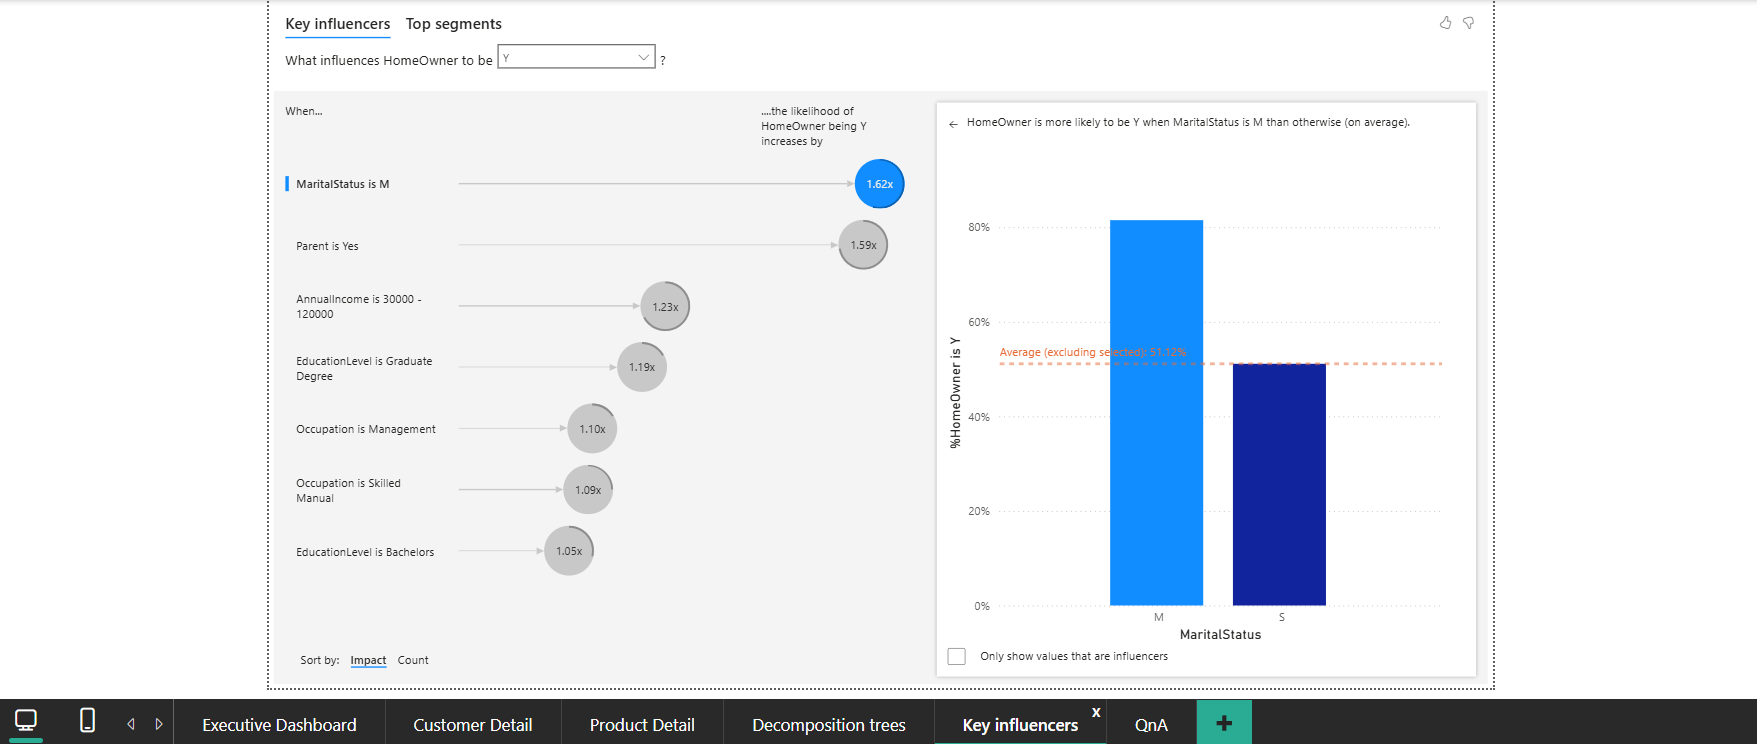

The dashboard page shown, as its layout file describes it:
{"tool":"powerbi","page":{"name":"Key influencers","canvas":[1280,720],"ordinal":4},"visuals":[{"type":"keyDriversVisual","fields":{"Target":["Customer Lookup.HomeOwner"],"ExplainBy":["Customer Lookup.AnnualIncome","Customer Lookup.EducationLevel","Customer Lookup.Parent","Customer Lookup.MaritalStatus","Customer Lookup.Occupation"]},"box":[0,0,1280.1,720.6],"z":0}]}

Visuals, with their boxes on the page's 1280x720 design canvas (x1, y1, x2, y2). These are canvas units, not pixel positions in the 1757x744 screenshot, which may show the page scaled, cropped or inside an application window:
keyDriversVisual - Customer Lookup.HomeOwner x Customer Lookup.AnnualIncome: 0 0 1280 721
